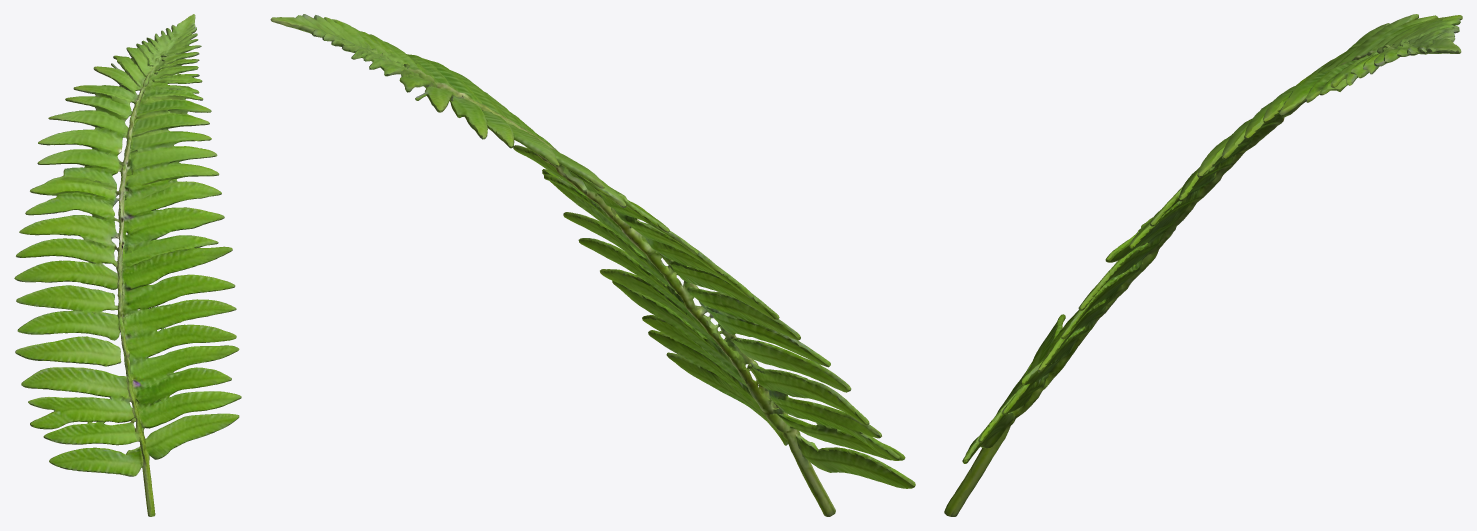
Rendered from lux-boston-fern.glb.
3 views of the same model, side by side, from view 1: azimuth 30°, elevation 25°; view 2: azimuth 150°, elevation 25°; view 3: azimuth 270°, elevation 25° (orthographic). The views are drawn at different scales.
Parts seen in each view (by area): view 1: geometry_0; view 2: geometry_0; view 3: geometry_0.
Part boxes in pixels (x1=…): geometry_0: x1=14, y1=14, x2=241, y2=516; geometry_0: x1=270, y1=14, x2=915, y2=516; geometry_0: x1=944, y1=14, x2=1462, y2=516.
Bounding box in the file's own units: 0.35 × 0.4395 × 0.3293.
1 material, 1 textured.
